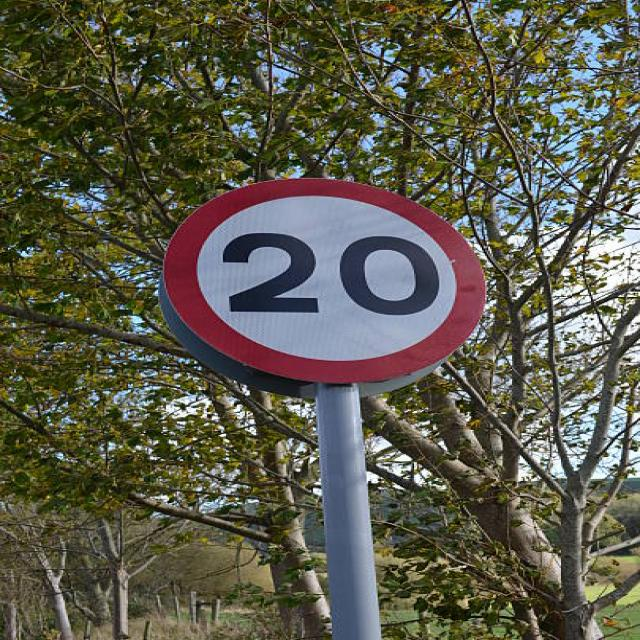speed_limit_20: (167, 174, 490, 386)
